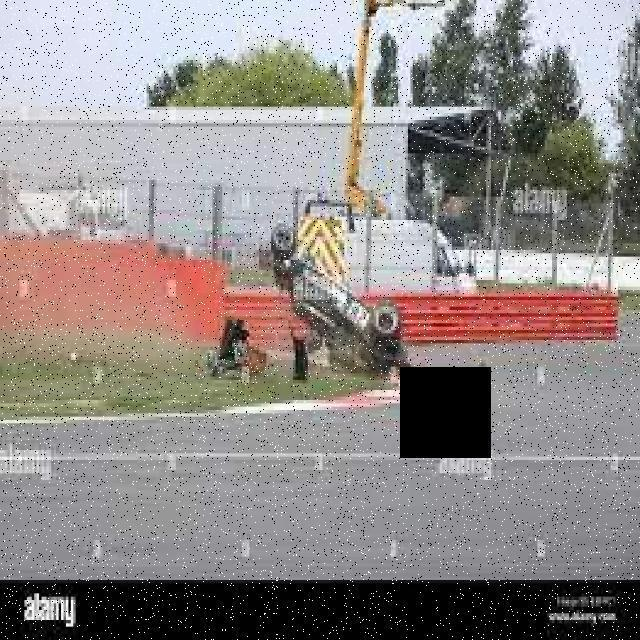single accident: (179, 178, 408, 404)
